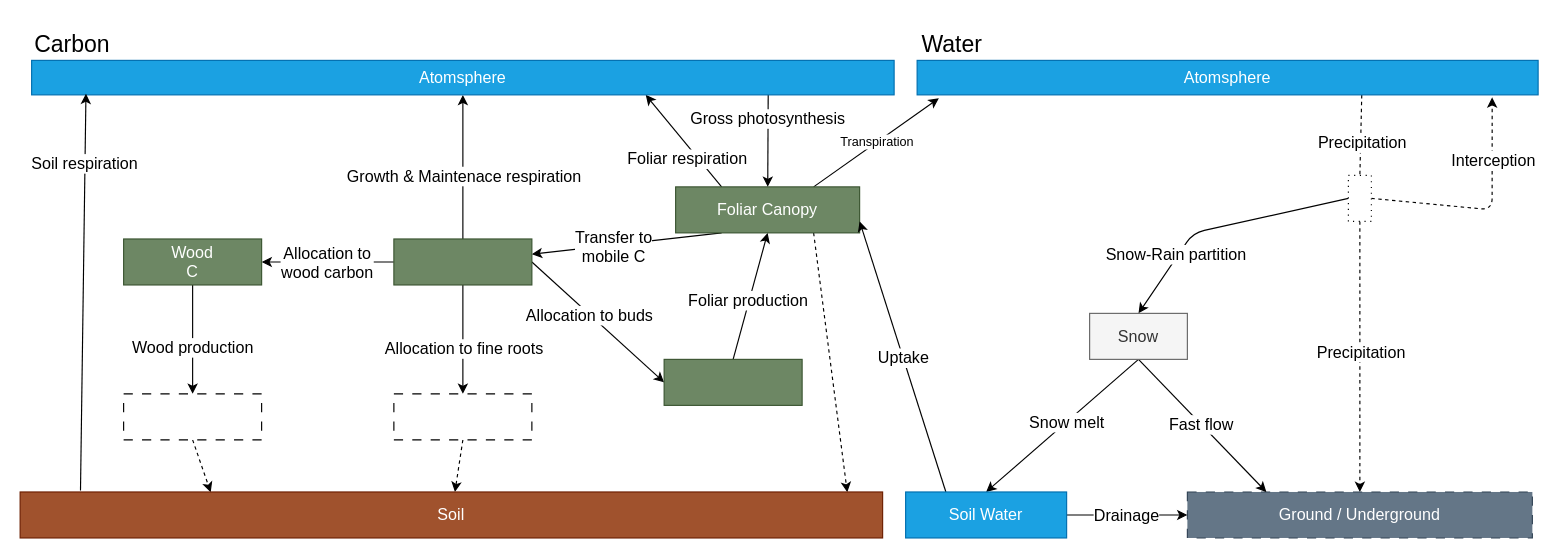
The diagram is 1558 pixels wide and 558 high, and some of its shapes have lost their labels. The centre of each missing label's shape, as x and y in pixels:
"Bud C" belongs at point 732,381.
"Fine Root" belongs at point 462,416.
"Plant C" belongs at point 462,261.
"Wood" belongs at point 192,416.
